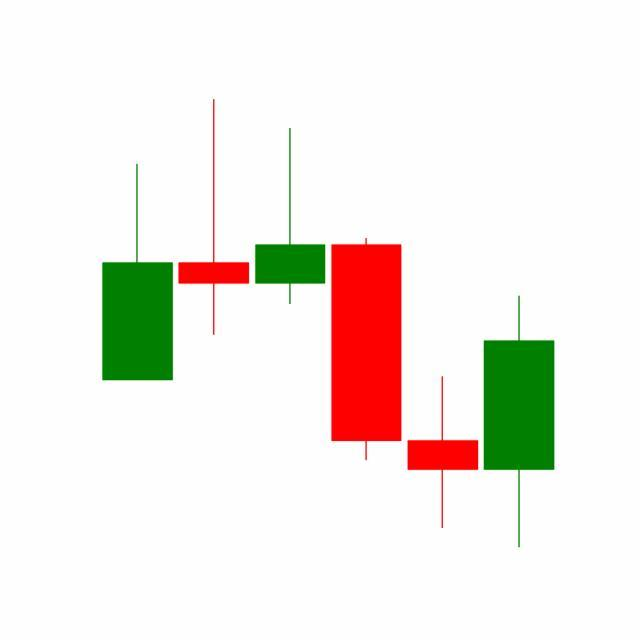Spinning Top: (404, 375, 482, 530)
